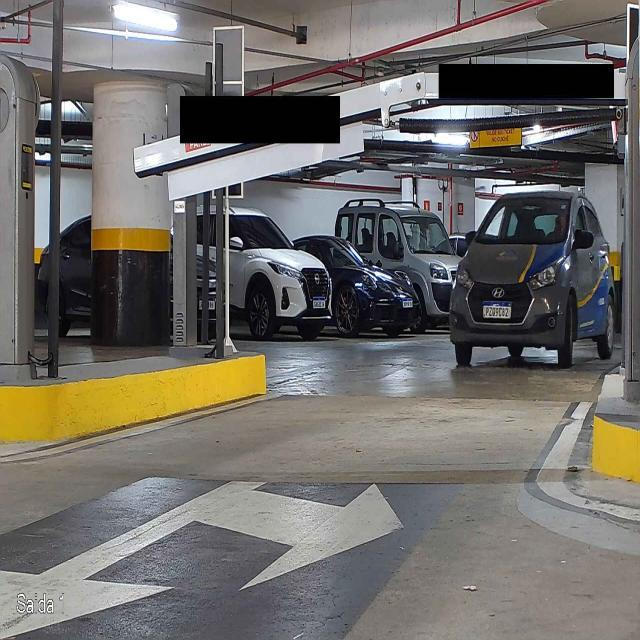old_plate: (481, 300, 514, 319)
